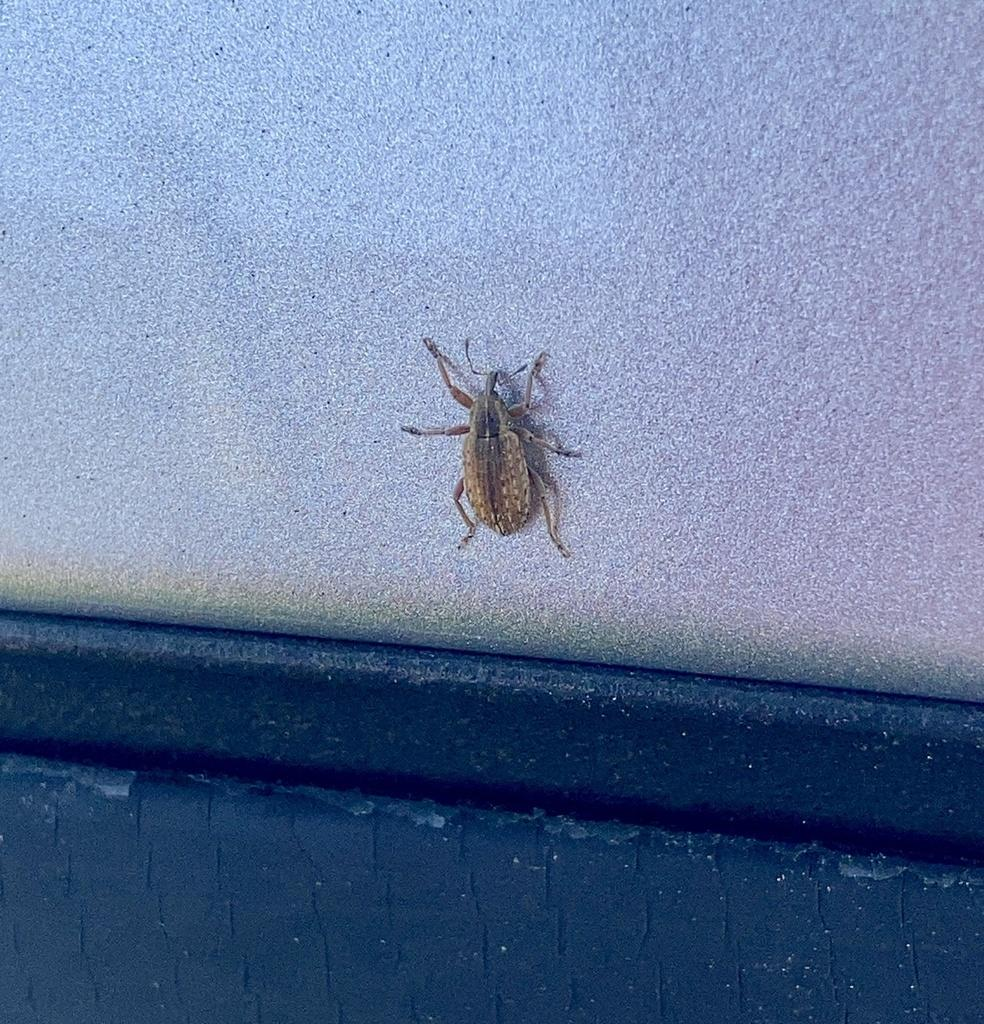weevils: (340, 299, 660, 601)
